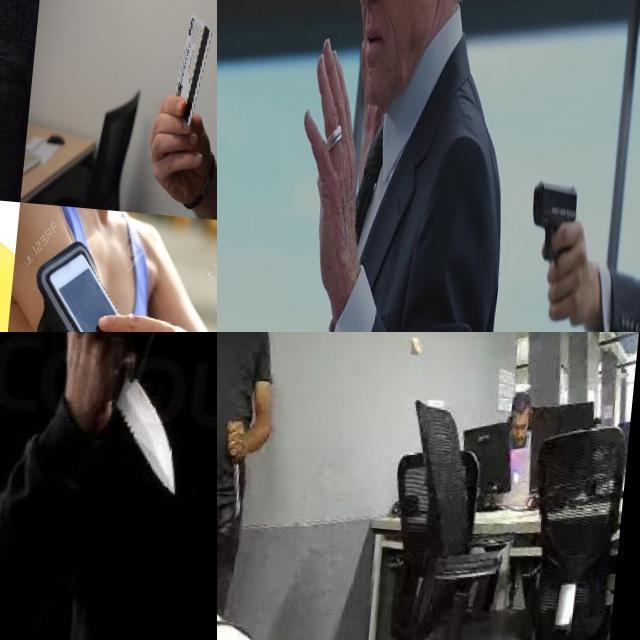-: (60, 332, 201, 500), (230, 436, 260, 518)
gun-knife-thesis - v11 Yolov5 augmented: (530, 162, 596, 321)
